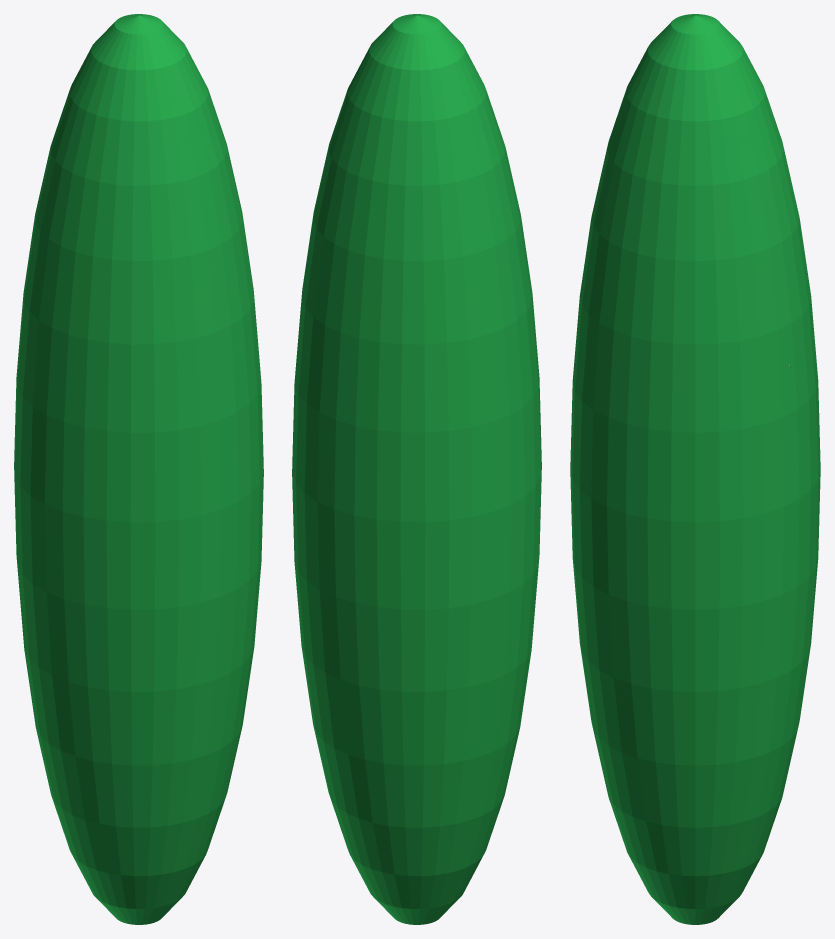
Rendered from Cucumber.obj.
3 views of the same model, side by side, from view 1: azimuth 30°, elevation 25°; view 2: azimuth 150°, elevation 25°; view 3: azimuth 270°, elevation 25° (orthographic).
Parts seen in each view (by area): view 1: Sphere; view 2: Sphere; view 3: Sphere.
Boxes of the visible parts, x1,y1,x2,y2 form: Sphere: (14, 14, 263, 924); Sphere: (292, 14, 541, 924); Sphere: (570, 14, 820, 924).
Size of the model in its own units: 0.5 by 2 by 0.5.
Materials: 1 (1 with a texture image).
